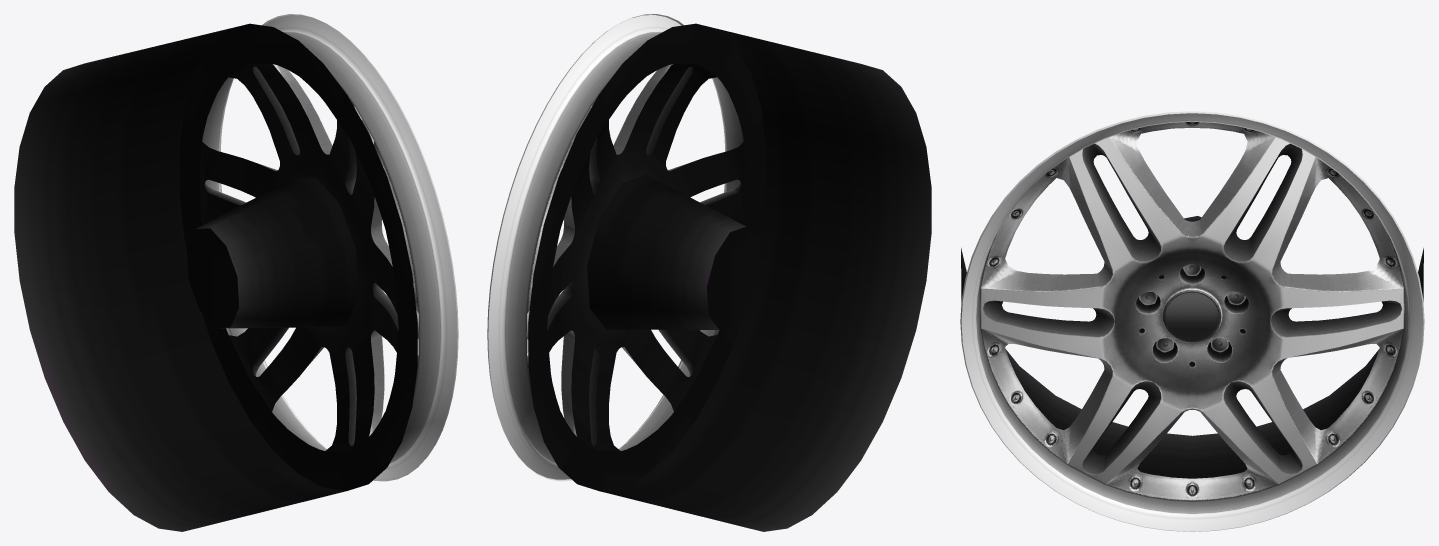
Rendered from wheel17.fbx.
3 renders of one model, left to right at view 1: azimuth 30°, elevation 25°; view 2: azimuth 150°, elevation 25°; view 3: azimuth 270°, elevation 25°, orthographic. The views are drawn at different scales.
Visible parts, largest first — view 1: bra_monoblockvimulti_wheel_wheel_inner_rim_, wheel_rim, bra_monoblockvimulti_wheel_wheel_rim_; view 2: bra_monoblockvimulti_wheel_wheel_inner_rim_, wheel_rim, bra_monoblockvimulti_wheel_wheel_rim_; view 3: bra_monoblockvimulti_wheel_wheel_rim_, wheel_rim, bra_monoblockvimulti_wheel_wheel_inner_rim_, bra_monoblockvimulti_wheel_wheel_chrome_rim_.
Boxes of the visible parts, x1=… form: bra_monoblockvimulti_wheel_wheel_inner_rim_: x1=14, y1=23, x2=417, y2=531; wheel_rim: x1=202, y1=14, x2=458, y2=481; bra_monoblockvimulti_wheel_wheel_rim_: x1=204, y1=15, x2=454, y2=455; bra_monoblockvimulti_wheel_wheel_inner_rim_: x1=528, y1=23, x2=931, y2=531; wheel_rim: x1=488, y1=14, x2=743, y2=481; bra_monoblockvimulti_wheel_wheel_rim_: x1=487, y1=14, x2=741, y2=455; bra_monoblockvimulti_wheel_wheel_rim_: x1=966, y1=121, x2=1424, y2=531; wheel_rim: x1=960, y1=111, x2=1423, y2=531; bra_monoblockvimulti_wheel_wheel_inner_rim_: x1=961, y1=216, x2=1423, y2=478; bra_monoblockvimulti_wheel_wheel_chrome_rim_: x1=1161, y1=287, x2=1223, y2=342.
Size of the model in its own units: 0.228 by 0.4567 by 0.4556.
1 material, 1 textured.
